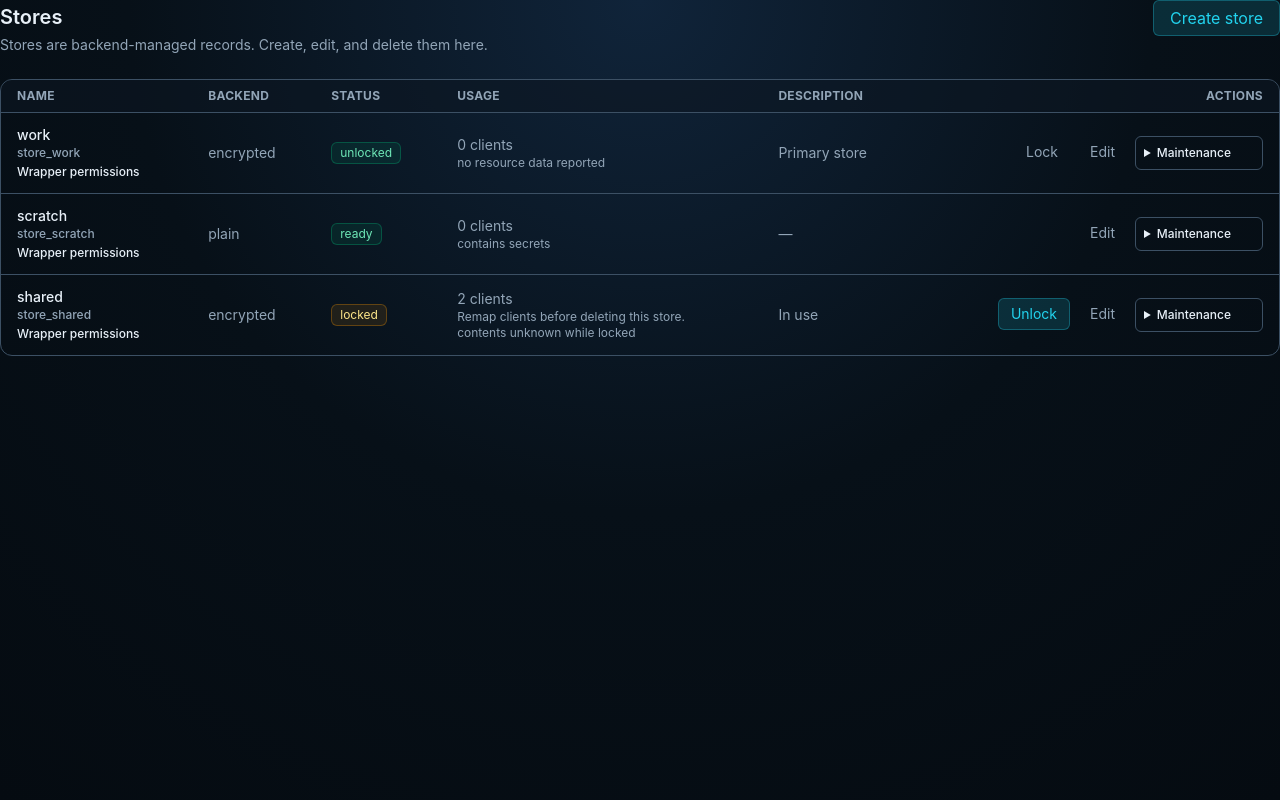
Test: StoresPage › clears an encrypted-creation key on pre-request cancellation
Expected: the link "work" is shown, [17, 126, 50, 143]
Click the button "Create store".
click(1216, 18)  # box [1153, 0, 1279, 36]
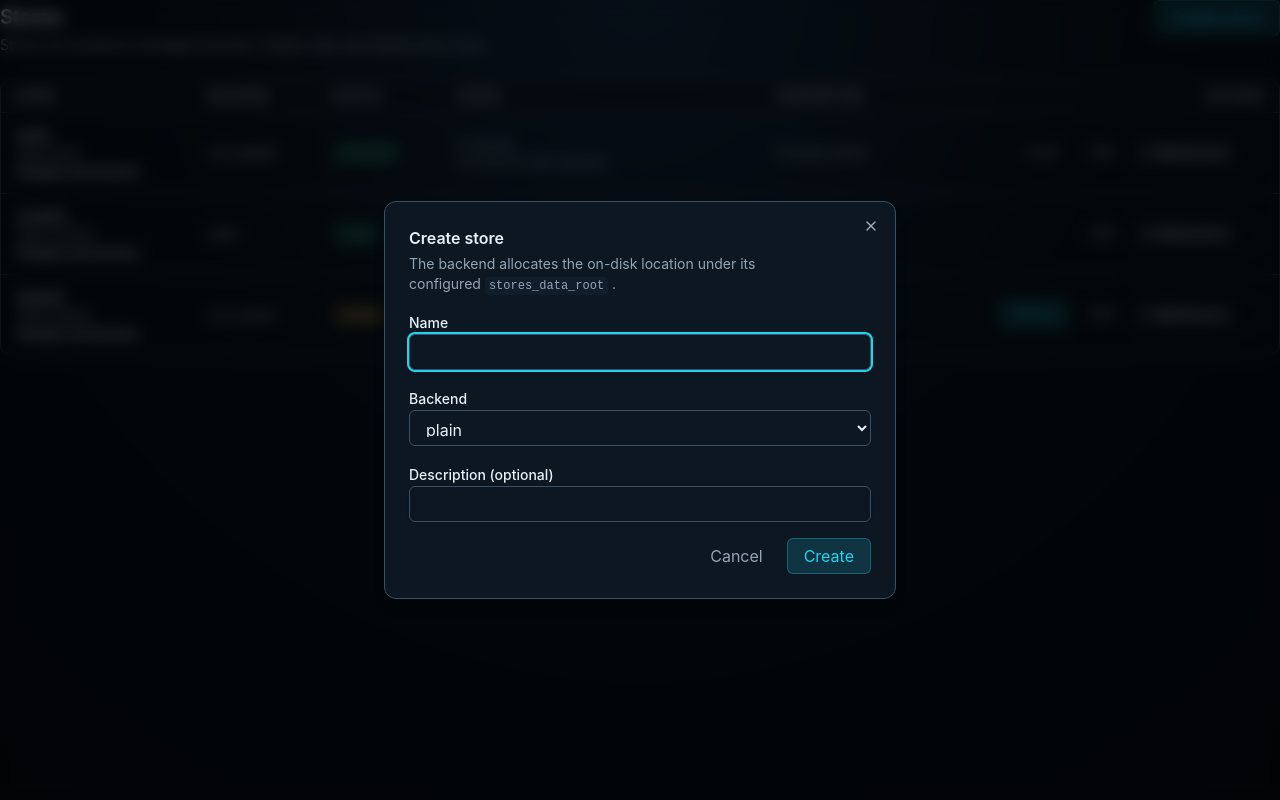
Type "cancelled" into the field labelled "Name".
click(640, 352); type("cancelled")  # box [409, 334, 871, 370]
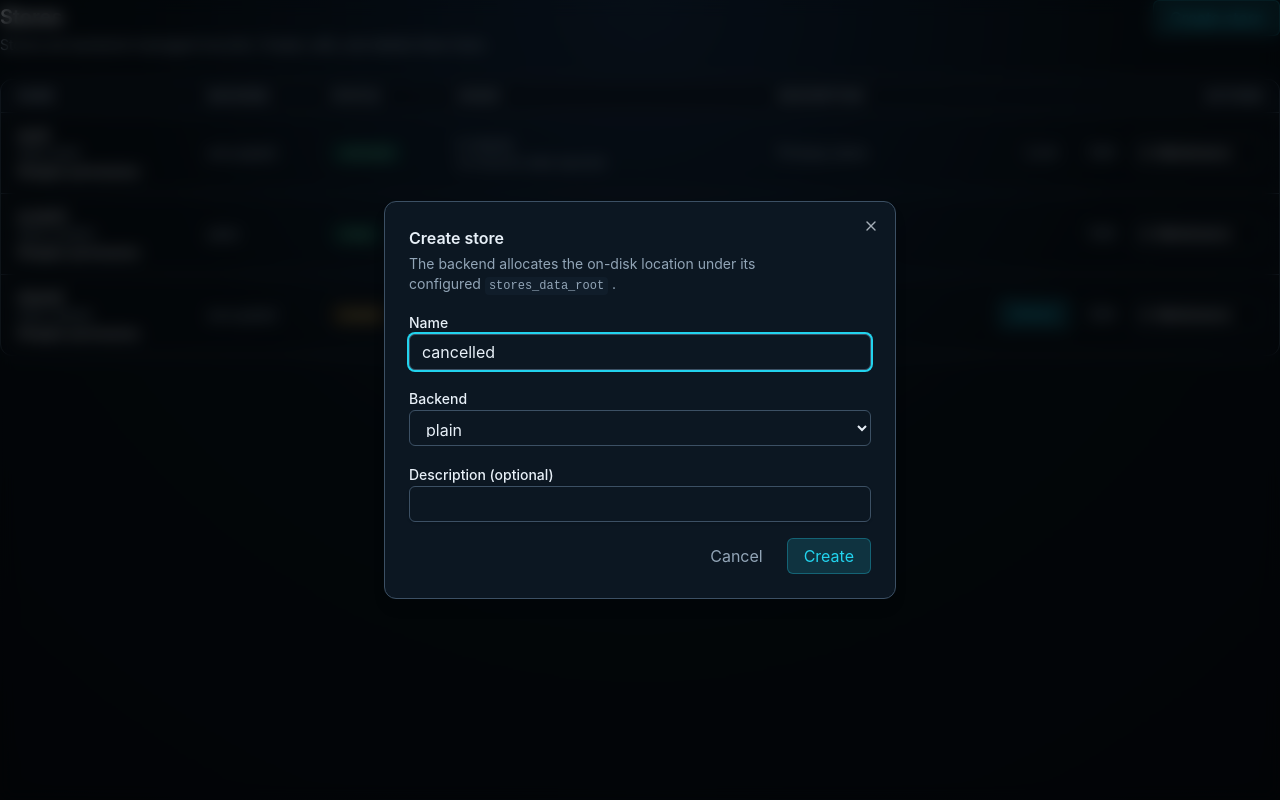
Select "encrypted" in the dropdown labelled "Backend" at (640,428), box [409, 410, 871, 446]
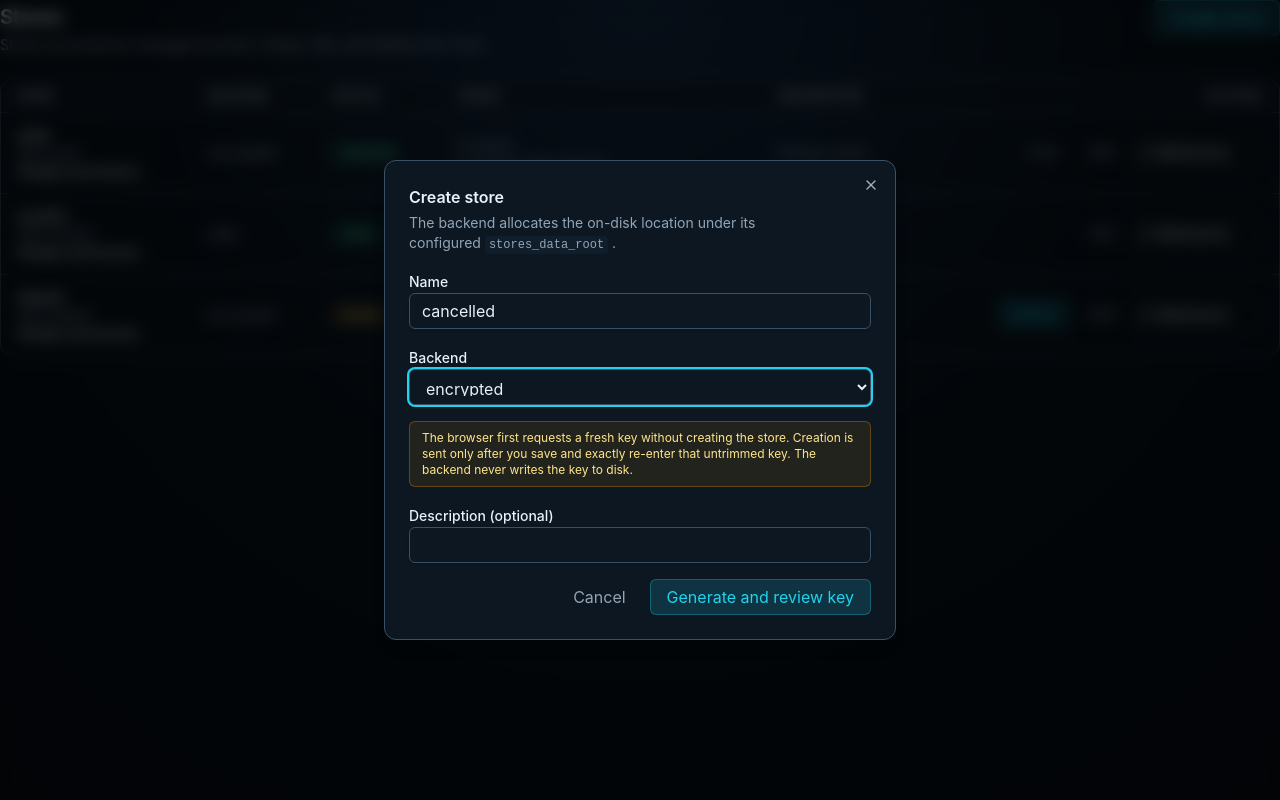
Click the button "Generate and review key".
click(760, 597)  # box [650, 579, 871, 615]
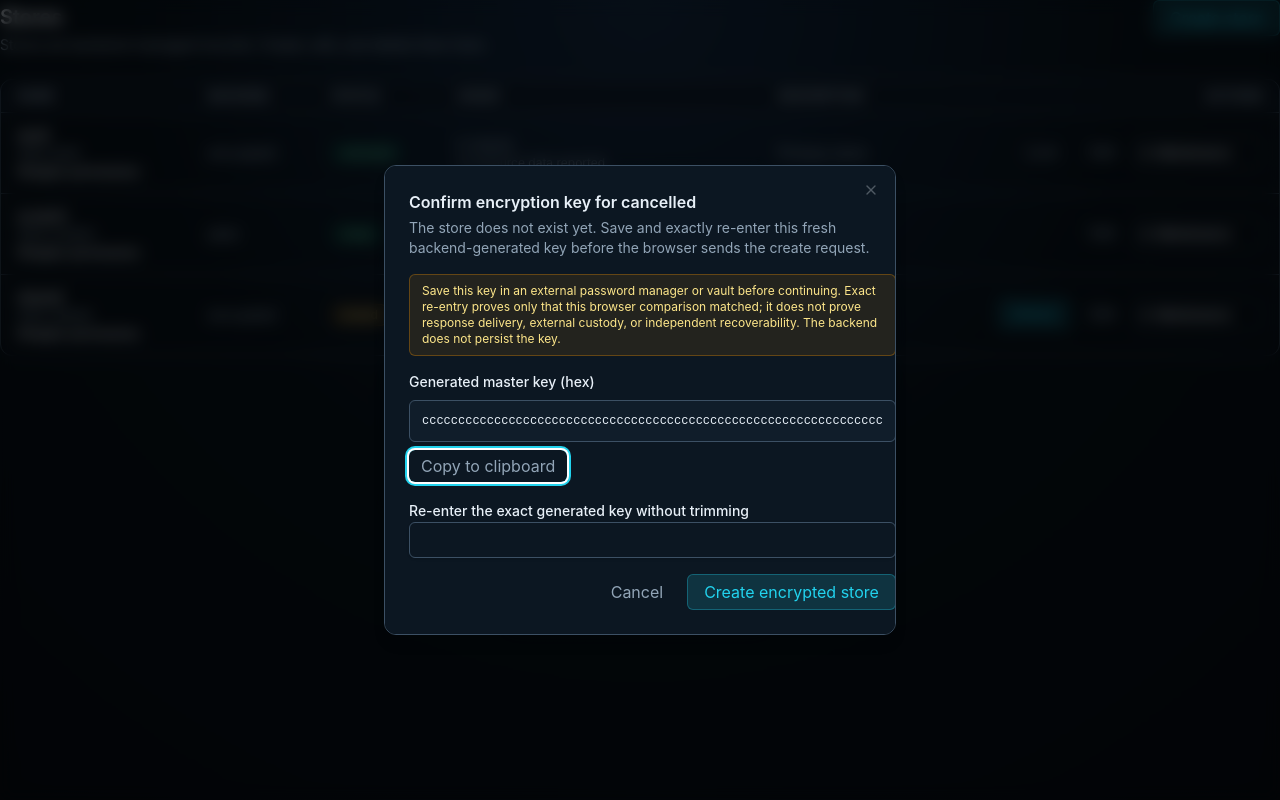
Now the text with test id "generated-store-key" is shown, box [409, 400, 896, 442]
Click the button "Cancel".
click(637, 592)  # box [595, 574, 679, 610]
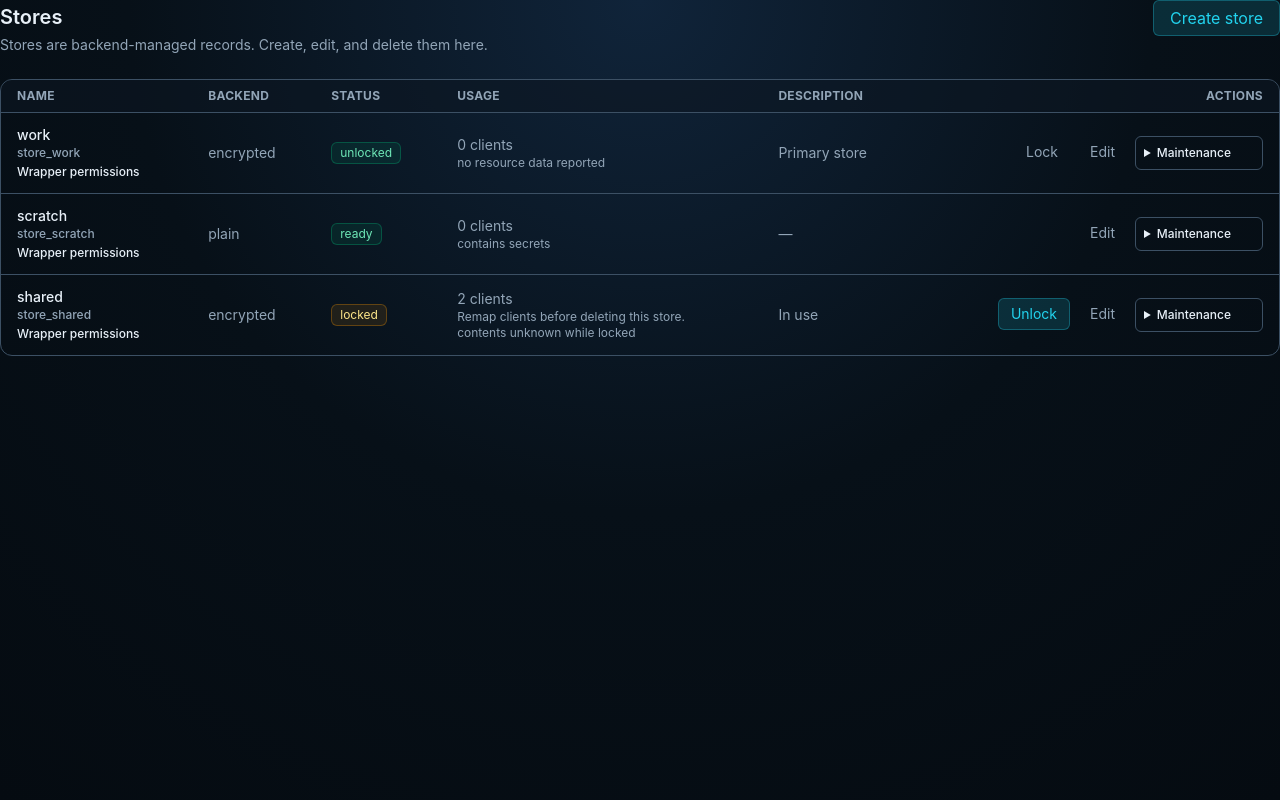
Now the text with test id "generated-store-key" is gone
